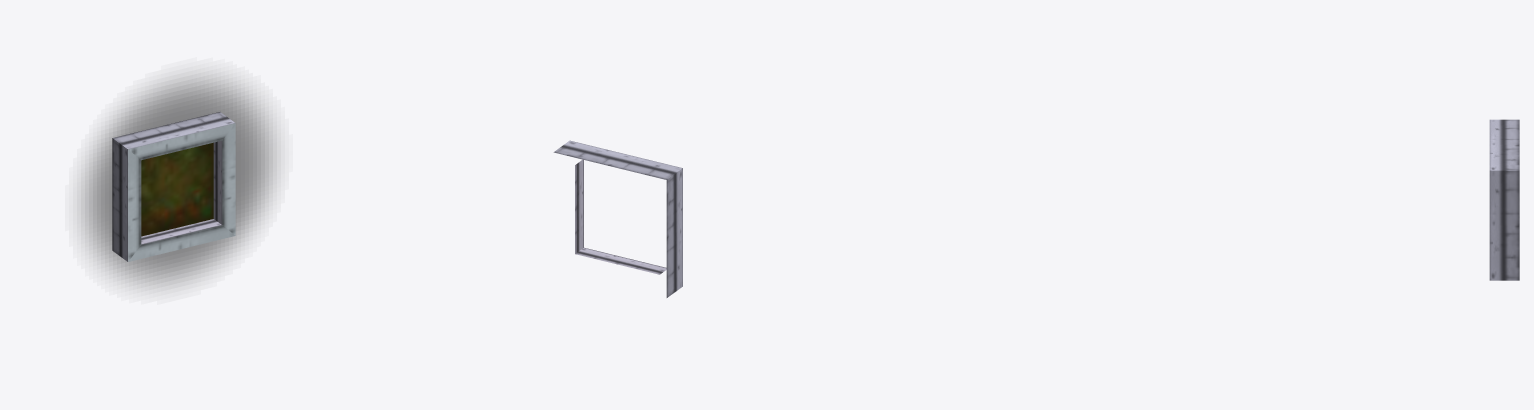
File: prop_snow_tree_small_brickbox_ul.glb
3 views of the same model, side by side, from view 1: azimuth 30°, elevation 25°; view 2: azimuth 150°, elevation 25°; view 3: azimuth 270°, elevation 25° (orthographic). The views are drawn at different scales.
Parts seen in each view (by area): view 1: shadow_snow_tree_small_brickbox_ul, tree_box_planter_bricks_2; view 2: tree_box_planter_bricks_2; view 3: tree_box_planter_bricks_2.
Boxes of the visible parts, x1,y1,x2,y2 form: shadow_snow_tree_small_brickbox_ul: [81, 74, 276, 288]; tree_box_planter_bricks_2: [112, 112, 235, 261]; tree_box_planter_bricks_2: [553, 140, 682, 297]; tree_box_planter_bricks_2: [1489, 119, 1519, 280].
Size of the model in its own units: 13.99 by 12.32 by 23.14.
5 materials, 5 textured.
